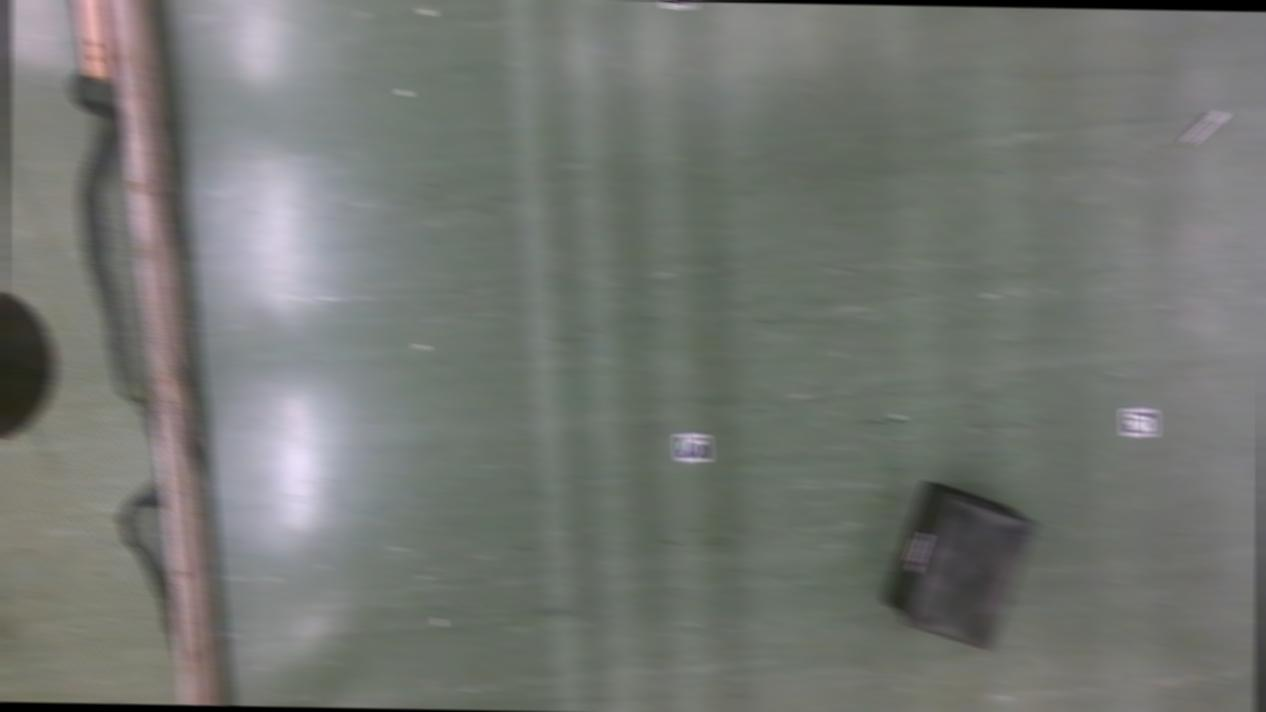probes: (1179, 110, 1227, 145)
rako: (883, 482, 1037, 649)
